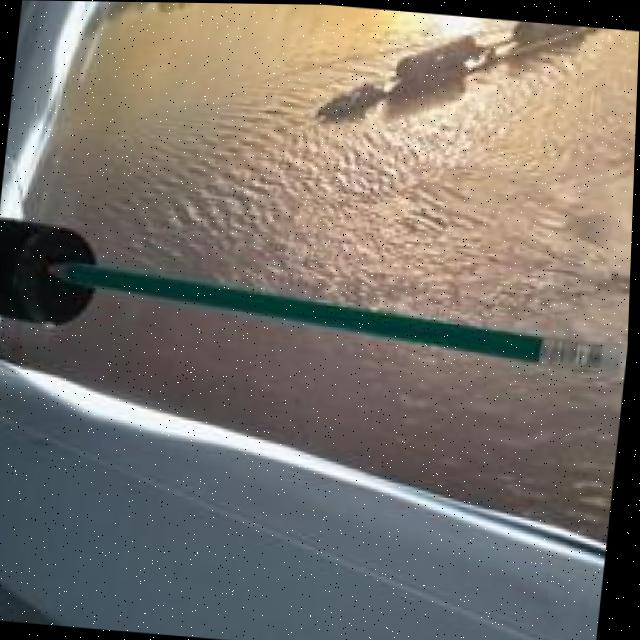pencil: (48, 261, 616, 372)
